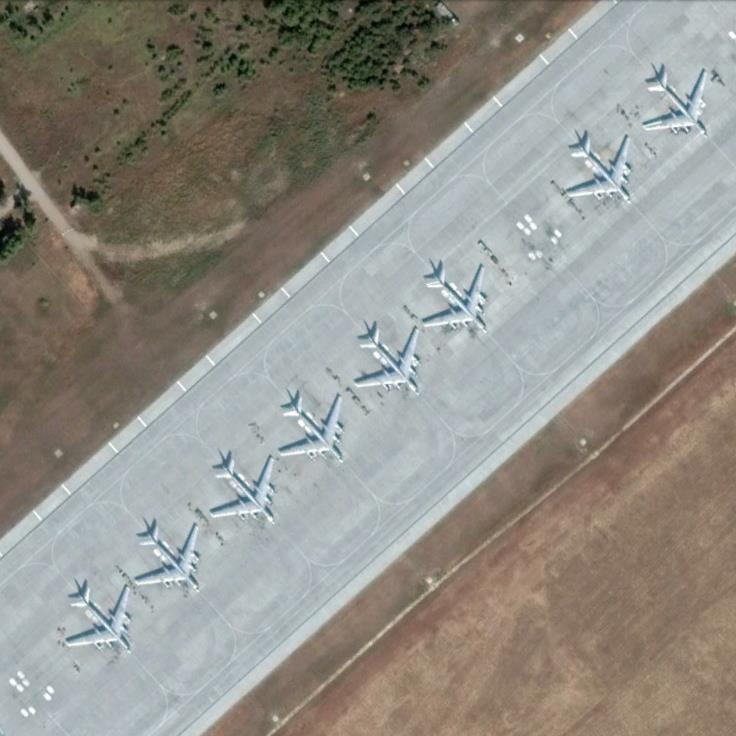A17: (563, 131, 635, 206), (641, 65, 712, 140), (420, 262, 491, 336), (276, 394, 347, 466), (133, 521, 202, 595), (353, 325, 421, 398), (210, 456, 277, 527), (65, 584, 131, 654)
